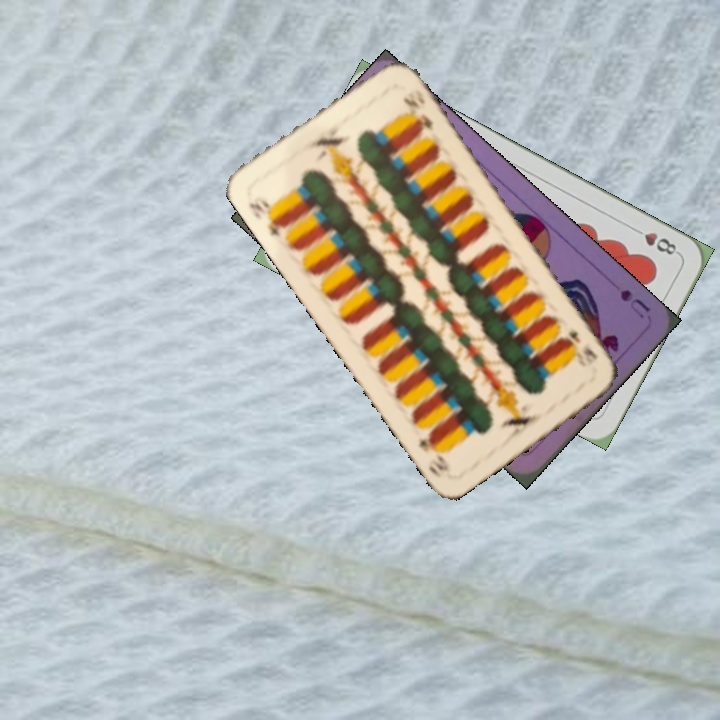E10: (245, 191, 289, 239), (562, 326, 601, 368)
H8: (628, 223, 682, 258)
SU: (615, 285, 653, 321)
